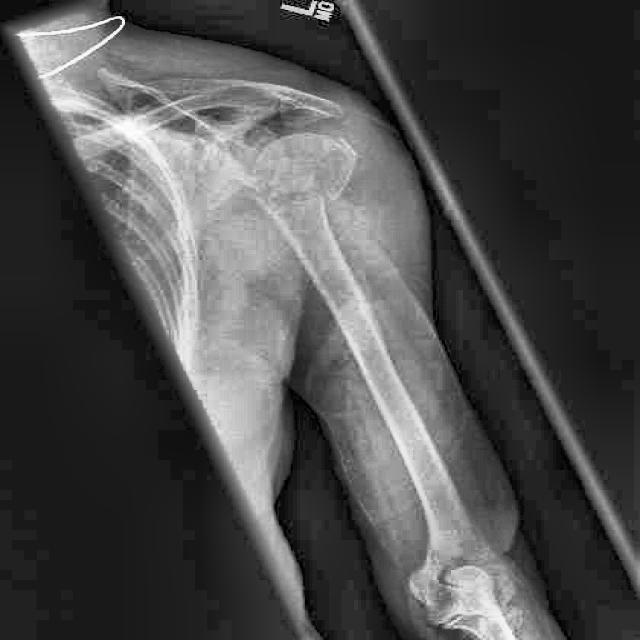humerus: (279, 164, 378, 242)
